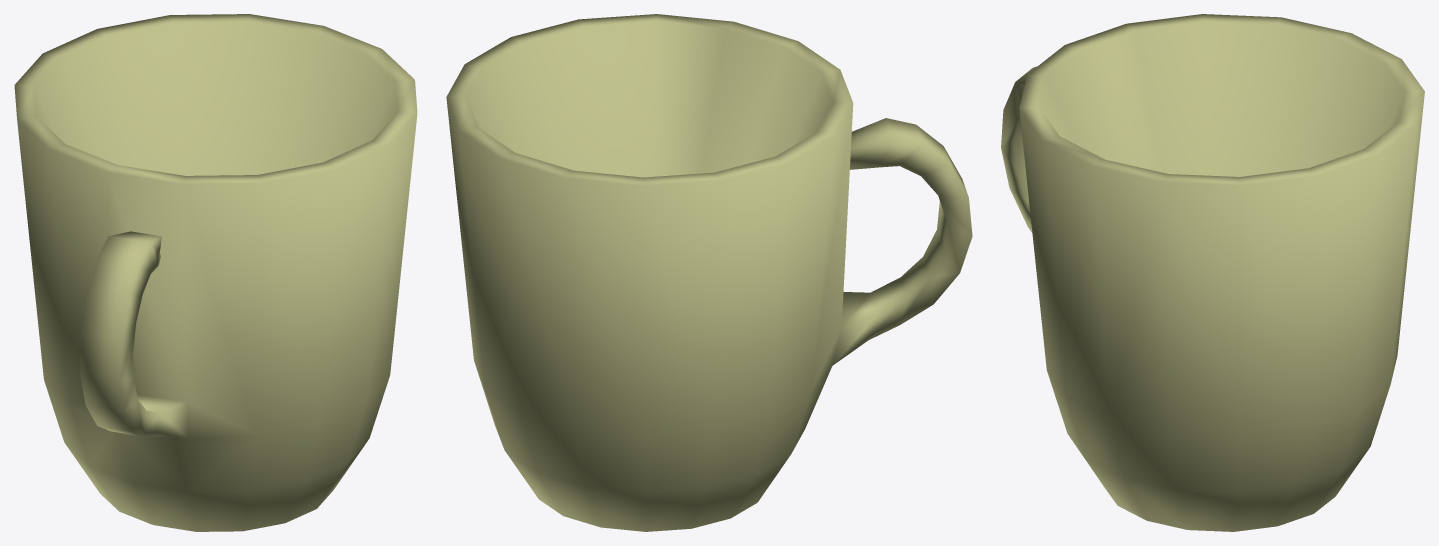
File: cup.fbx
3 views of the same model, side by side, from view 1: azimuth 30°, elevation 25°; view 2: azimuth 150°, elevation 25°; view 3: azimuth 270°, elevation 25° (orthographic).
Parts seen in each view (by area): view 1: cup; view 2: cup; view 3: cup.
Boxes of the visible parts, box(x1,y1,x2,y2) form: cup: box(14, 14, 417, 531); cup: box(446, 14, 972, 531); cup: box(1001, 14, 1424, 531).
Bounding box in the file's own units: 2.22 × 2.01 × 2.04.
